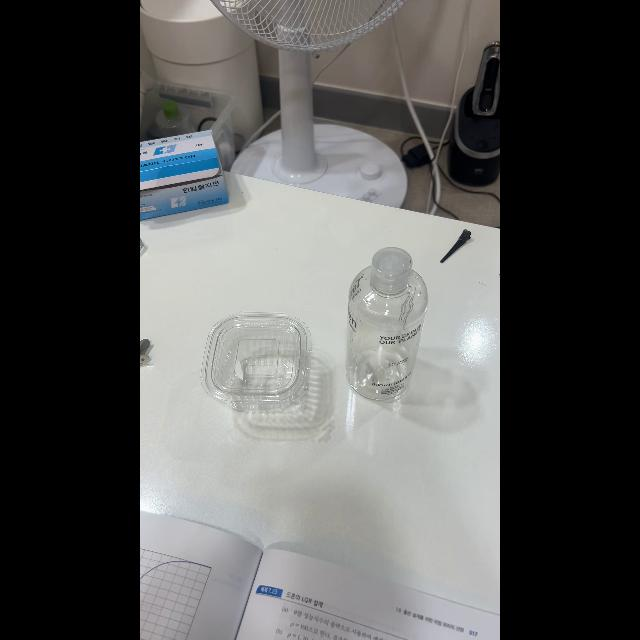clean: (345, 250, 429, 398), (203, 312, 311, 406)
